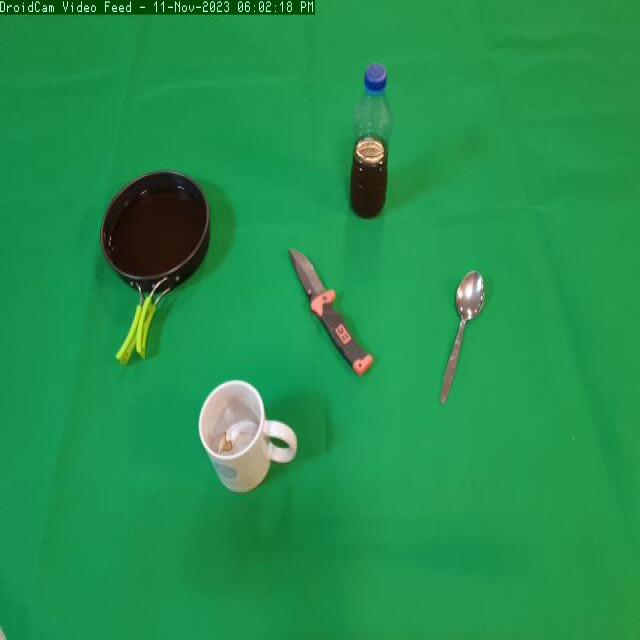cup: (193, 377, 300, 510)
fullbottle: (344, 60, 400, 235)
fullpan: (92, 162, 216, 374)
knife: (280, 240, 380, 388)
spoon: (428, 262, 499, 410)
